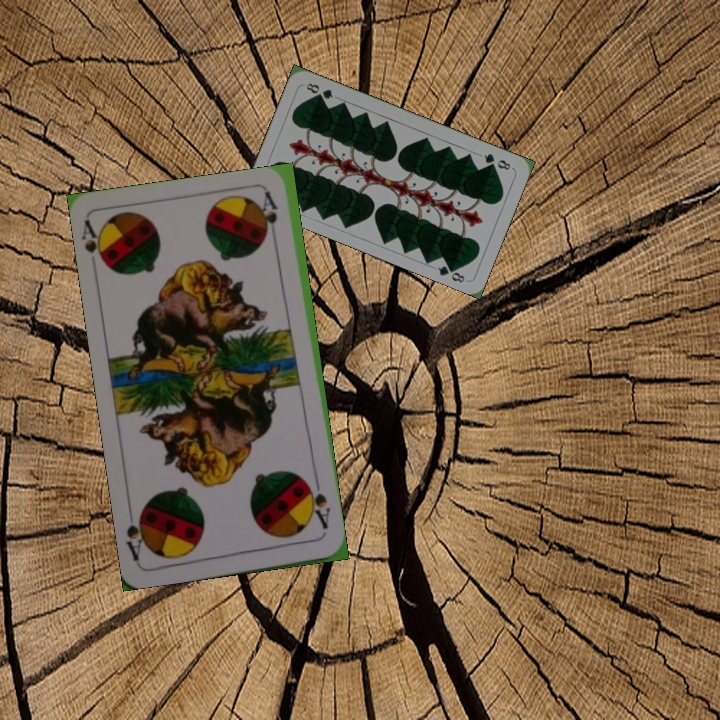G8: (480, 149, 513, 173)
SA: (78, 217, 111, 273), (302, 477, 334, 532)
